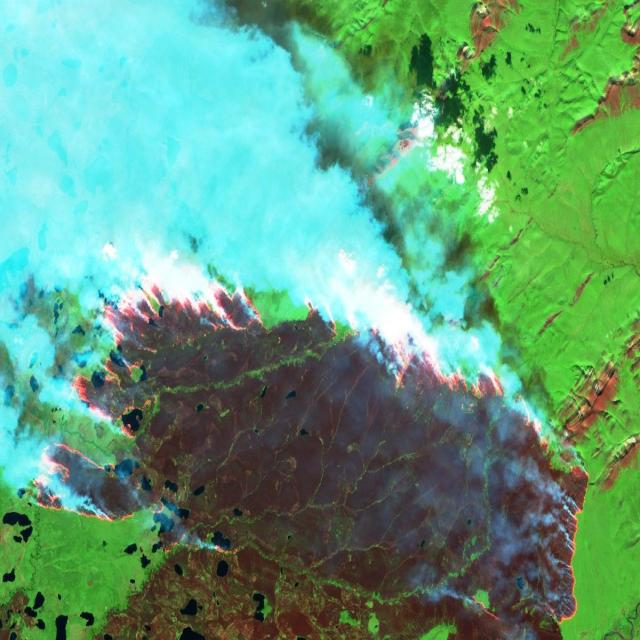fire: (31, 265, 593, 627)
